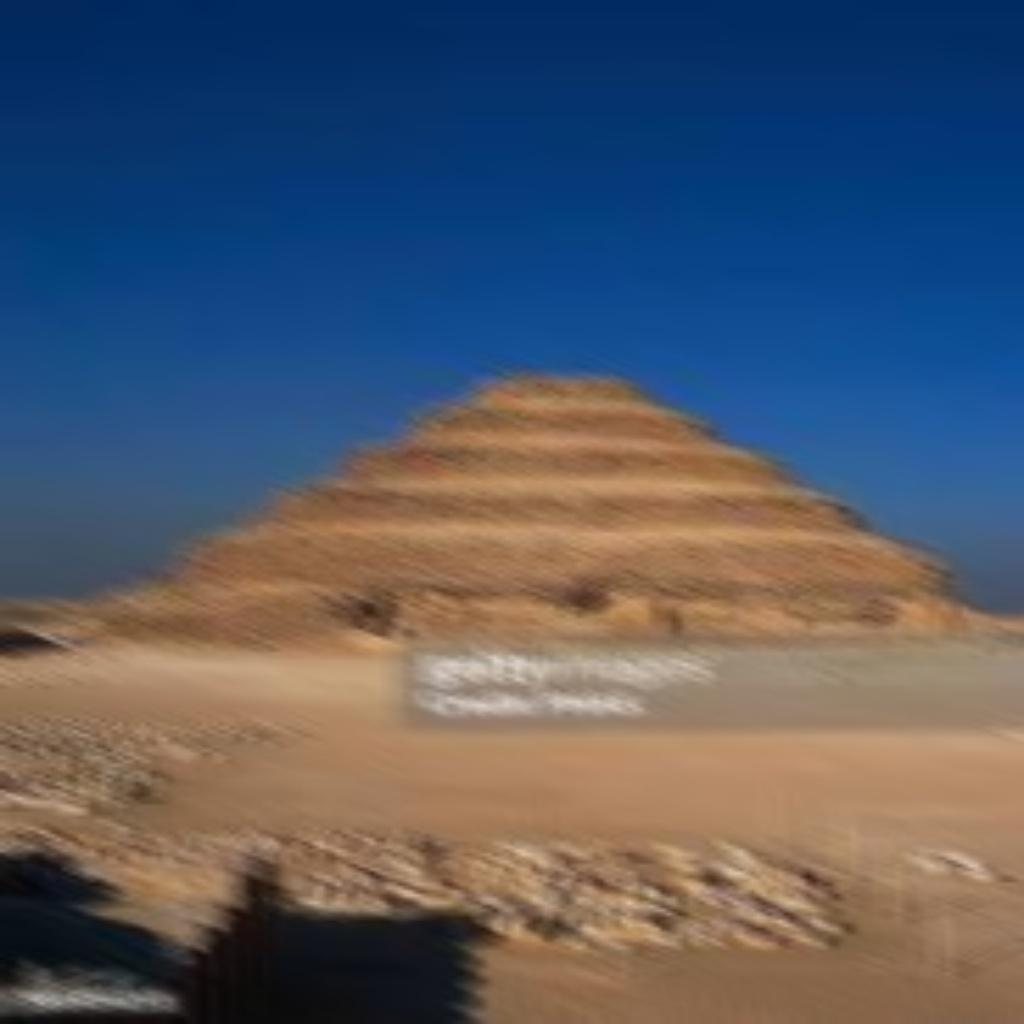Pyramid of Djoser: (78, 361, 990, 648)
